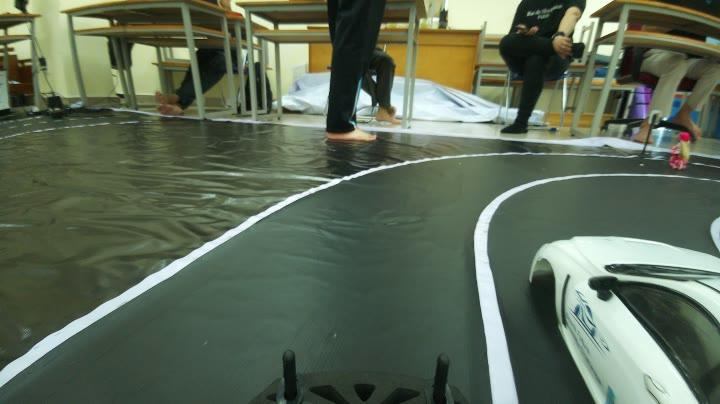car: (541, 210, 720, 404)
